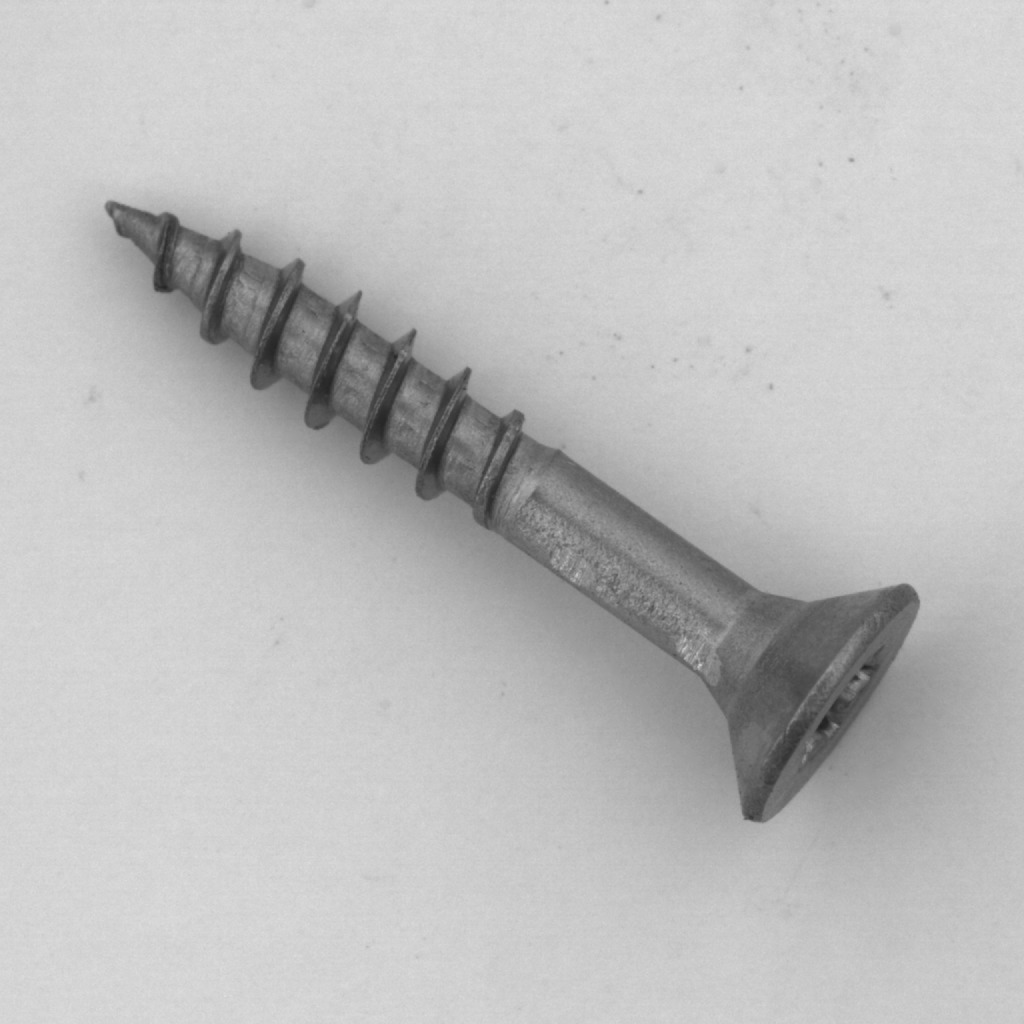scratch_neck: (507, 492, 758, 715)
